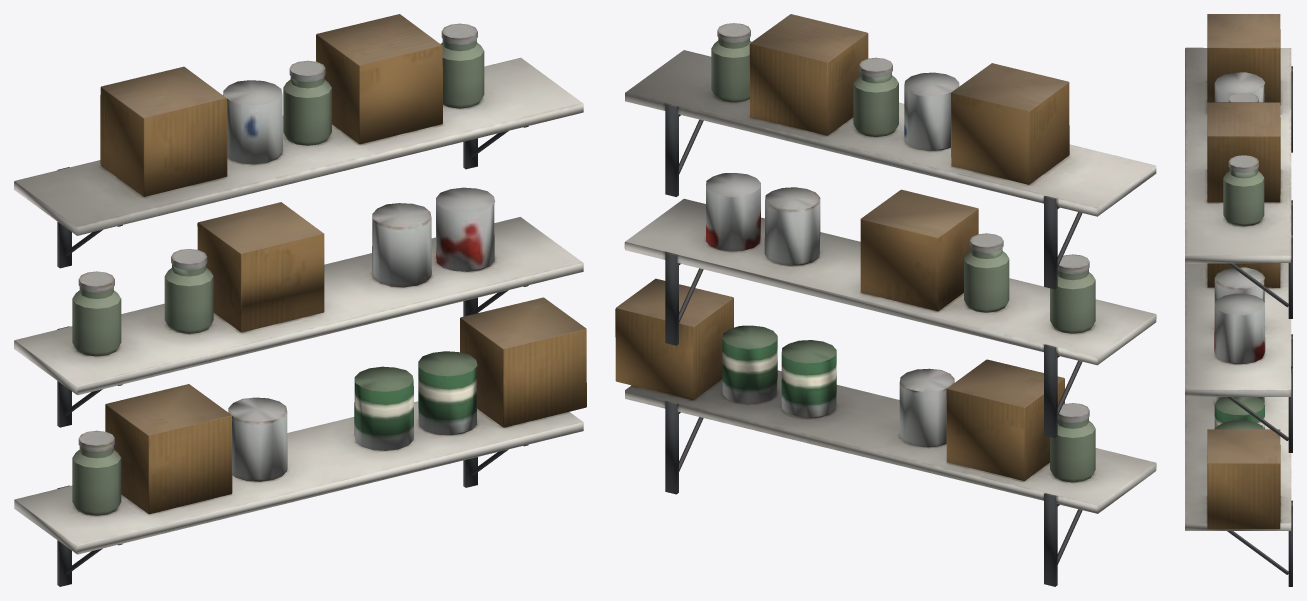
File: wall_shelves-low.glb
3 renders of one model, left to right at view 1: azimuth 30°, elevation 25°; view 2: azimuth 150°, elevation 25°; view 3: azimuth 270°, elevation 25°, orthographic. The views are drawn at different scales.
Parts seen in each view (by area): view 1: wall_shelves-low; view 2: wall_shelves-low; view 3: wall_shelves-low.
Part boxes in pixels (left/top/right/bottom): wall_shelves-low: left=14, top=14, right=586, bottom=586; wall_shelves-low: left=615, top=14, right=1156, bottom=586; wall_shelves-low: left=1185, top=14, right=1292, bottom=586.
Size of the model in its own units: 1.24 by 1.12 by 0.2626.
1 material, 1 textured.
